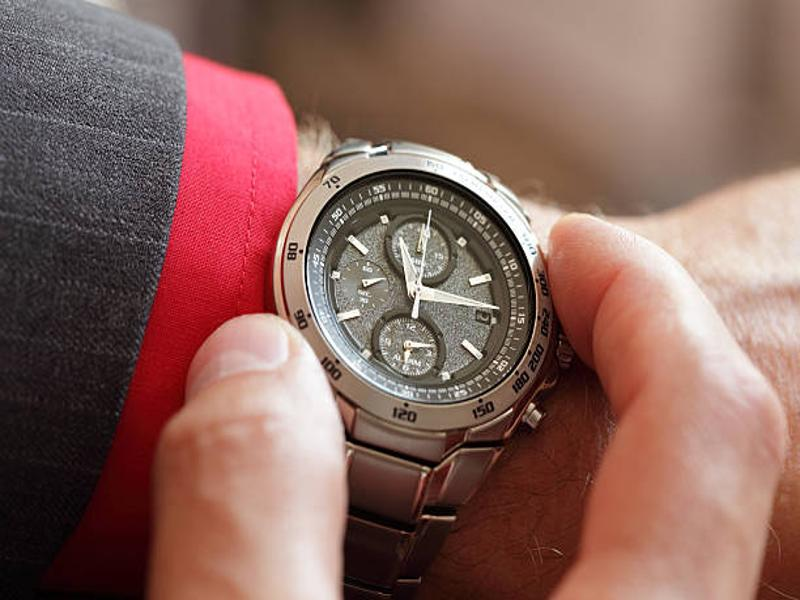watch: (267, 140, 581, 600)
